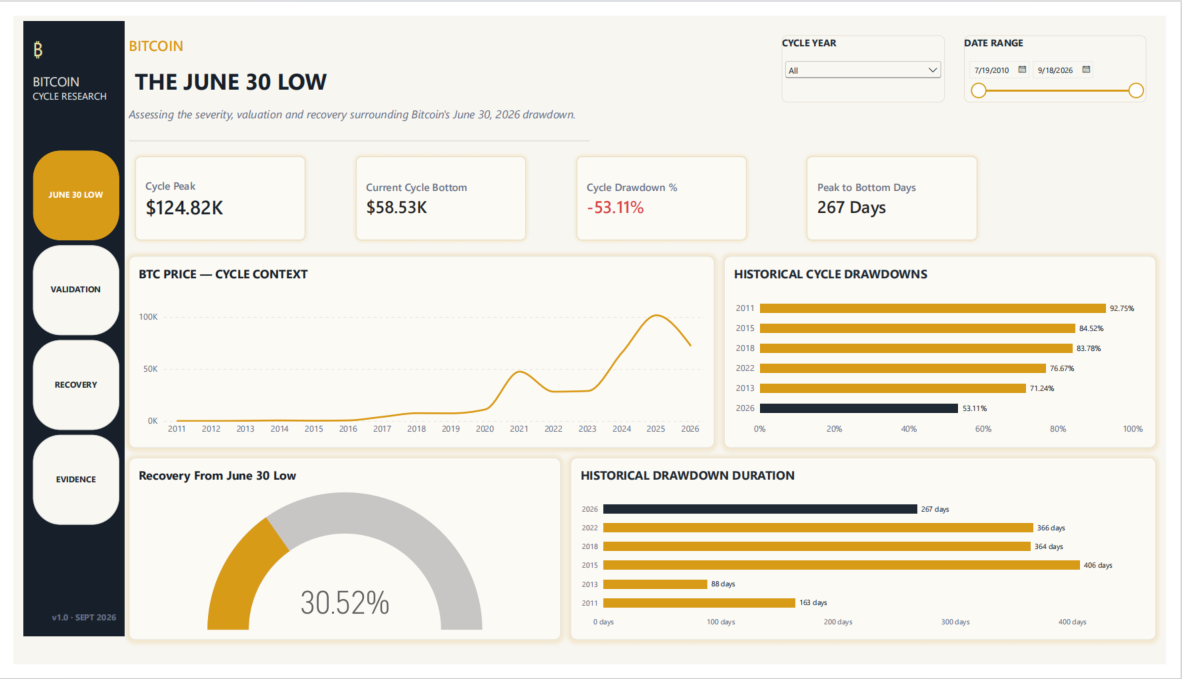

The dashboard page shown, as its layout file describes it:
{"tool":"powerbi","page":{"name":"JUNE 30 LOW","canvas":[1920,1080],"ordinal":0},"visuals":[{"type":"shape","box":[15.7,9.2,167.9,1024.3],"z":0},{"type":"textbox","box":[192,32,768,176],"z":1000},{"type":"textbox","box":[32,32,144,112],"z":2000},{"type":"shape","box":[192,192,768,32],"z":3000},{"type":"cardVisual","fields":{"Data":["Measures Table.Cycle Peak"]},"box":[192,224,304,160],"z":4000},{"type":"cardVisual","fields":{"Data":["Measures Table.Peak to Bottom Days"]},"box":[1312,224,304,160],"z":5000},{"type":"cardVisual","fields":{"Data":["Measures Table.Current Cycle Bottom"]},"box":[560,224,304,160],"z":6000},{"type":"cardVisual","fields":{"Data":["Measures Table.Cycle Drawdown %"]},"box":[928,224,304,160],"z":7000},{"type":"lineChart","title":"BTC PRICE — CYCLE CONTEXT","fields":{"Category":["BTC Market Daily.Date.Variation.Date Hierarchy.Year","BTC Market Daily.Date.Variation.Date Hierarchy.Month"],"Y":["Avg(BTC Market Daily.BTC Price)"]},"box":[192,400,976,320],"z":8000},{"type":"gauge","fields":{"Y":["Measures Table.Current Recovery %"]},"box":[192,736,720,304],"z":9000},{"type":"clusteredBarChart","title":"HISTORICAL CYCLE DRAWDOWNS","fields":{"Category":["Dim Cycle.Cycle Year"],"Y":["Measures Table.Drawdown Magnitude %"]},"box":[1184,400,720,320],"z":10000},{"type":"clusteredBarChart","title":"HISTORICAL DRAWDOWN DURATION","fields":{"Category":["Dim Cycle.Cycle Year"],"Y":["Dim Cycle.Historical Drawdown Duration"]},"box":[928,736,976,304],"z":11000},{"type":"slicer","title":"CYCLE YEAR","fields":{"Values":["Dim Cycle.Cycle Year"]},"box":[1280,32,272,112],"z":12000},{"type":"slicer","title":"DATE RANGE","fields":{"Values":["Dim Date.Date"]},"box":[1584,32,304,112],"z":13000},{"type":"pageNavigator","box":[32,224,144,624],"z":14000},{"type":"textbox","box":[64,992,112,48],"z":14001}]}

Visuals, with their boxes in screenshot pixels (x1, y1, x2, y2), scaled from the page's 1920x1080 canvas onto the 1182x679 screenshot:
shape: crop(10, 6, 113, 650)
textbox: crop(118, 20, 591, 131)
textbox: crop(20, 20, 108, 91)
shape: crop(118, 121, 591, 141)
cardVisual - Measures Table.Cycle Peak: crop(118, 141, 305, 241)
cardVisual - Measures Table.Peak to Bottom Days: crop(808, 141, 995, 241)
cardVisual - Measures Table.Current Cycle Bottom: crop(345, 141, 532, 241)
cardVisual - Measures Table.Cycle Drawdown %: crop(571, 141, 758, 241)
"BTC PRICE — CYCLE CONTEXT" lineChart: crop(118, 251, 719, 453)
gauge - Measures Table.Current Recovery %: crop(118, 463, 561, 654)
"HISTORICAL CYCLE DRAWDOWNS" clusteredBarChart: crop(729, 251, 1172, 453)
"HISTORICAL DRAWDOWN DURATION" clusteredBarChart: crop(571, 463, 1172, 654)
"CYCLE YEAR" slicer: crop(788, 20, 955, 91)
"DATE RANGE" slicer: crop(975, 20, 1162, 91)
pageNavigator: crop(20, 141, 108, 533)
textbox: crop(39, 624, 108, 654)
